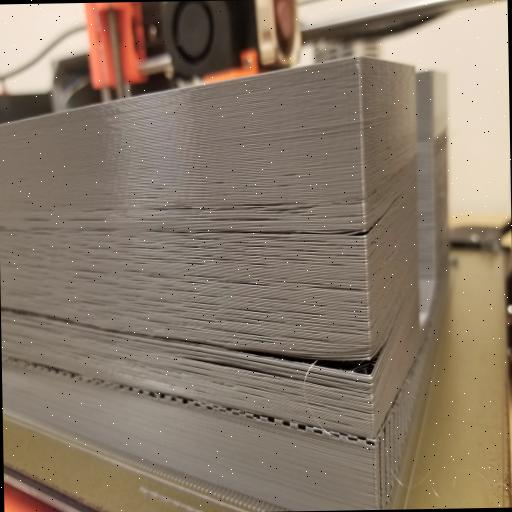cracks: (166, 291, 412, 402), (212, 184, 406, 258)
